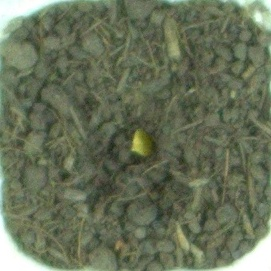chilli seed: (126, 125, 162, 162)
